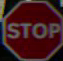Stop: (4, 5, 59, 54)
